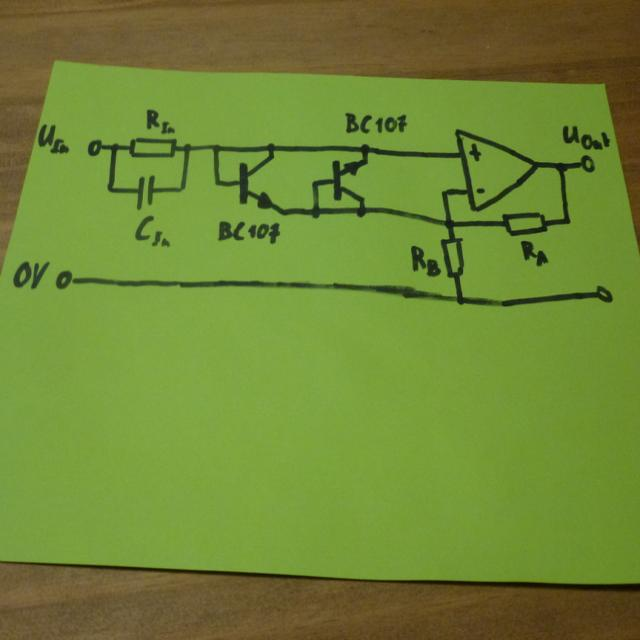capacitor: (134, 173, 156, 210)
junction: (554, 160, 568, 173), (310, 203, 320, 220), (454, 292, 465, 306), (359, 141, 370, 154), (444, 216, 455, 229), (264, 141, 276, 152), (105, 182, 115, 195), (210, 141, 220, 153), (177, 182, 186, 195), (356, 205, 365, 218), (109, 141, 119, 152), (182, 141, 191, 153), (440, 186, 449, 198), (212, 178, 221, 188), (561, 215, 570, 225), (310, 178, 318, 188)
resistor: (501, 211, 547, 236), (127, 135, 177, 158), (440, 235, 464, 280)
terminal: (594, 284, 613, 304), (54, 269, 73, 289), (578, 153, 596, 173), (86, 137, 102, 156)
text: (216, 217, 281, 245), (344, 110, 407, 133), (561, 123, 610, 151), (132, 213, 170, 249), (11, 259, 50, 289), (36, 123, 70, 155), (409, 243, 441, 277), (519, 238, 548, 268), (144, 107, 175, 134)
transistor: (237, 154, 284, 216), (331, 157, 368, 203)
